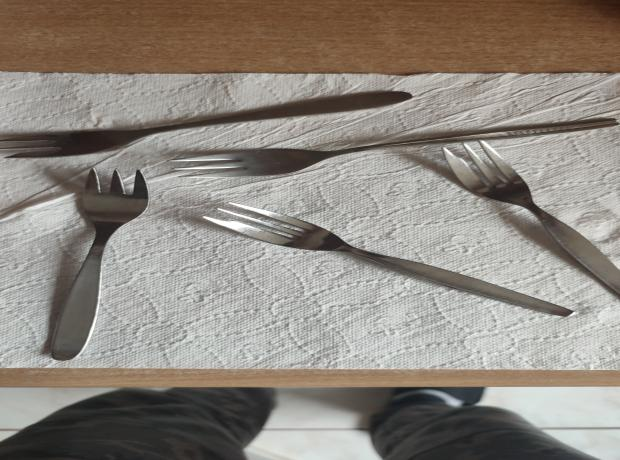metal: (202, 201, 574, 318), (166, 118, 620, 181), (437, 139, 620, 295), (0, 91, 414, 159), (48, 168, 153, 362)
